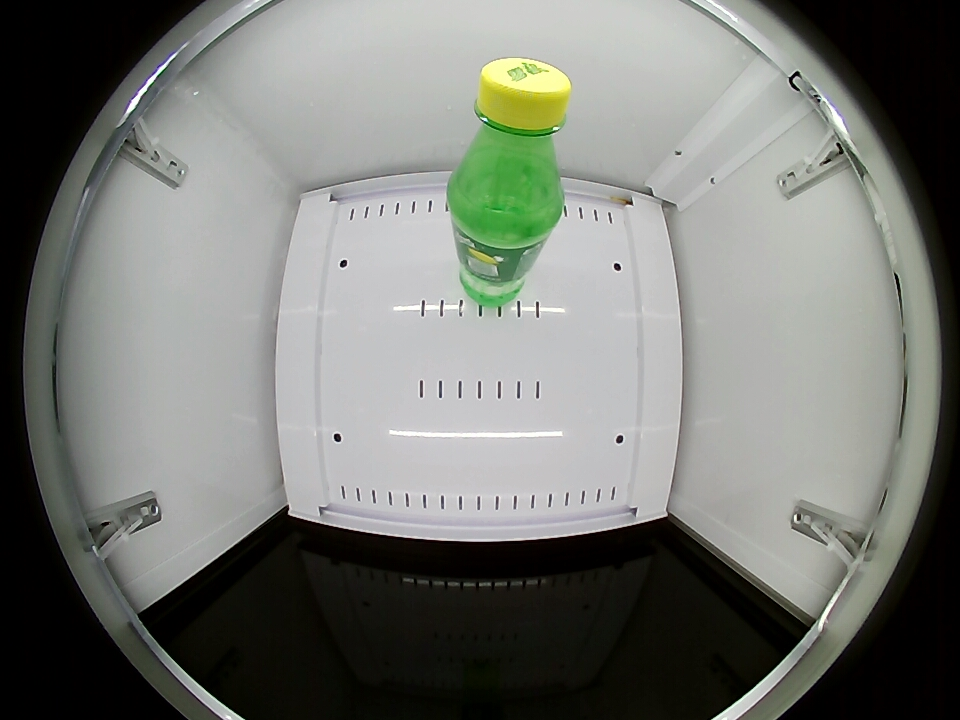xuebi-b: (454, 58, 570, 215)
